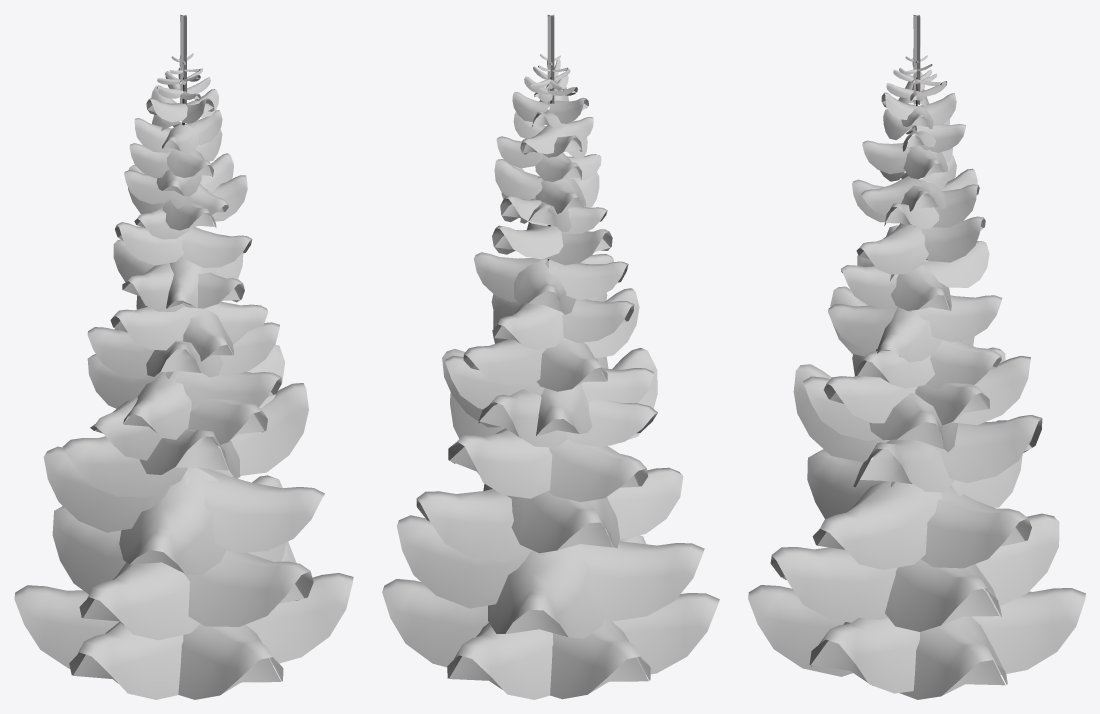
The model's file is Tree.fbx.
The picture shows the model from 3 angles, left to right: view 1: azimuth 30°, elevation 25°; view 2: azimuth 150°, elevation 25°; view 3: azimuth 270°, elevation 25°; orthographic projection.
Parts seen in each view (by area): view 1: Tree; view 2: Tree; view 3: Tree.
Boxes of the visible parts, <box> form: Tree: <box>14,14,353,699</box>; Tree: <box>382,15,719,699</box>; Tree: <box>748,15,1085,699</box>.
Bounding box in the file's own units: 42.8 × 100 × 46.23.
